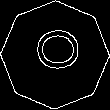O_W: (29, 33, 81, 77)
